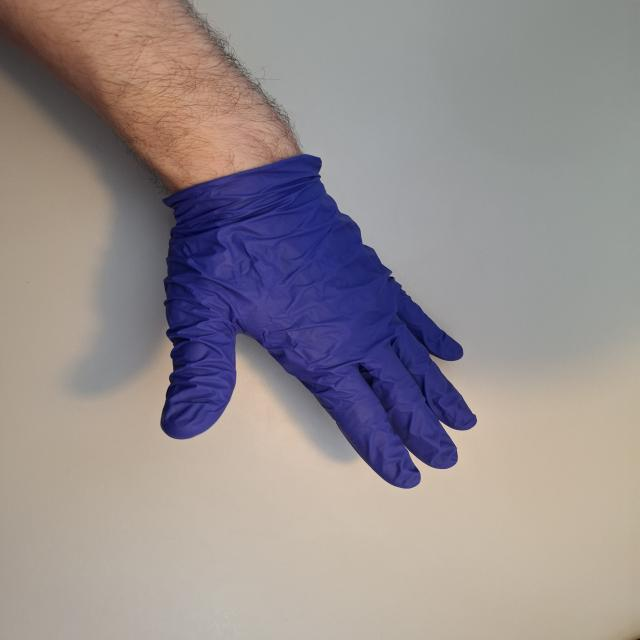glove_on: (158, 162, 480, 492)
